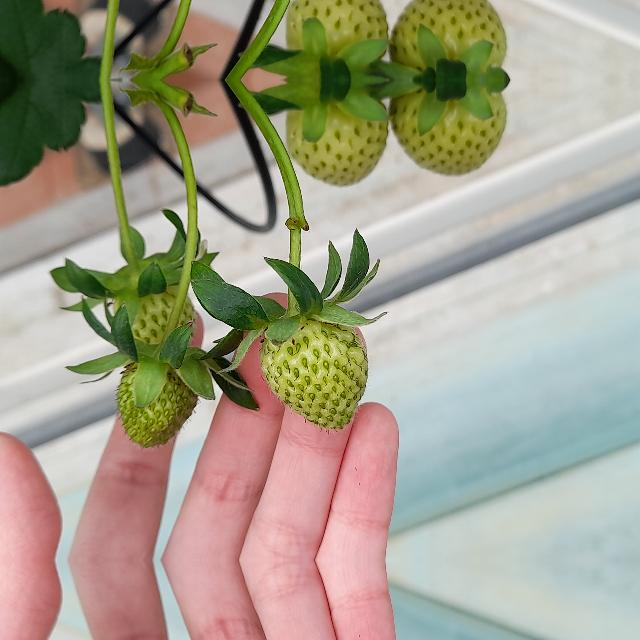Health_25: (258, 318, 368, 429), (281, 80, 389, 192), (391, 80, 507, 180), (391, 0, 507, 80), (112, 354, 202, 452), (281, 0, 389, 80), (106, 274, 200, 358)
